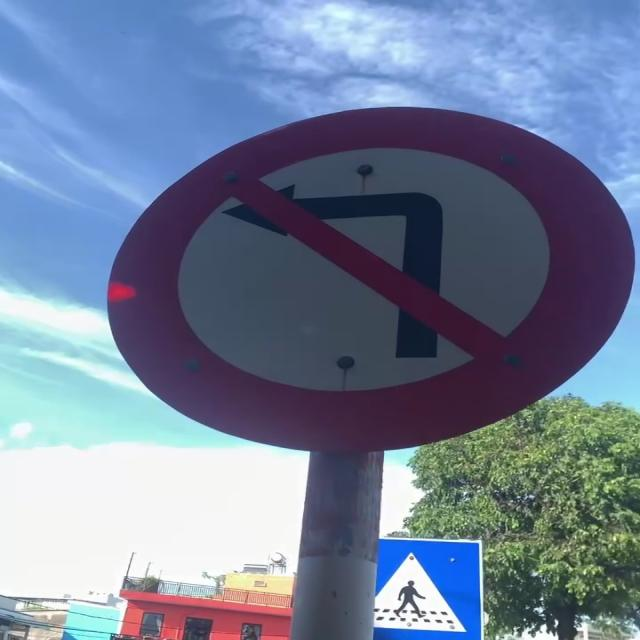Cam_Re_Trai: (113, 103, 636, 462)
